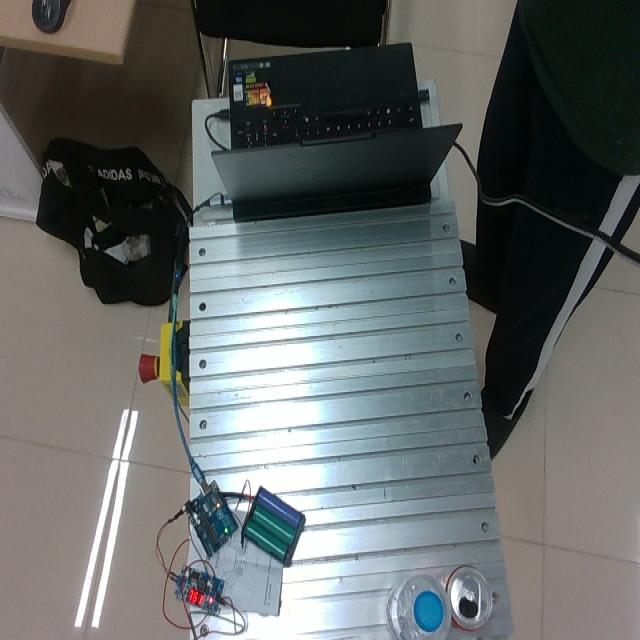lavie: (387, 572, 451, 639), (443, 564, 492, 631)
